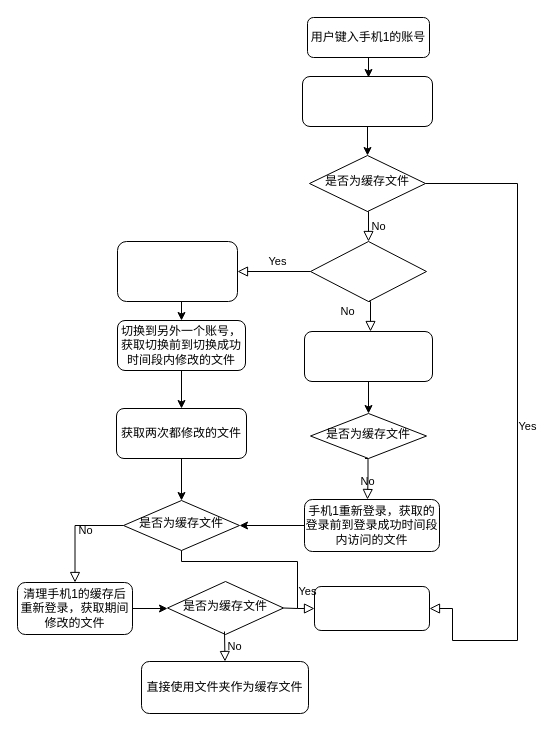
Some shapes in this 554 by 731 pixel diagram are drawn without their labels. Here are the shapes that lost their labels. From the top down, the box of each, then its label:
(302, 76, 432, 126): 在文件夹里寻找内容包含账号的所有文件，以及以这些名开头的文件
(116, 240, 238, 302): 手机1登录手机2账号，获取登录前到登录成功时间段内修改的文件
(310, 240, 426, 302): 该游戏是否支持 切换账户
(304, 330, 432, 382): 手机1重新登录，获取的登录前到登录成功时间段内修改的文件
(314, 586, 430, 630): 查找到缓存文件
